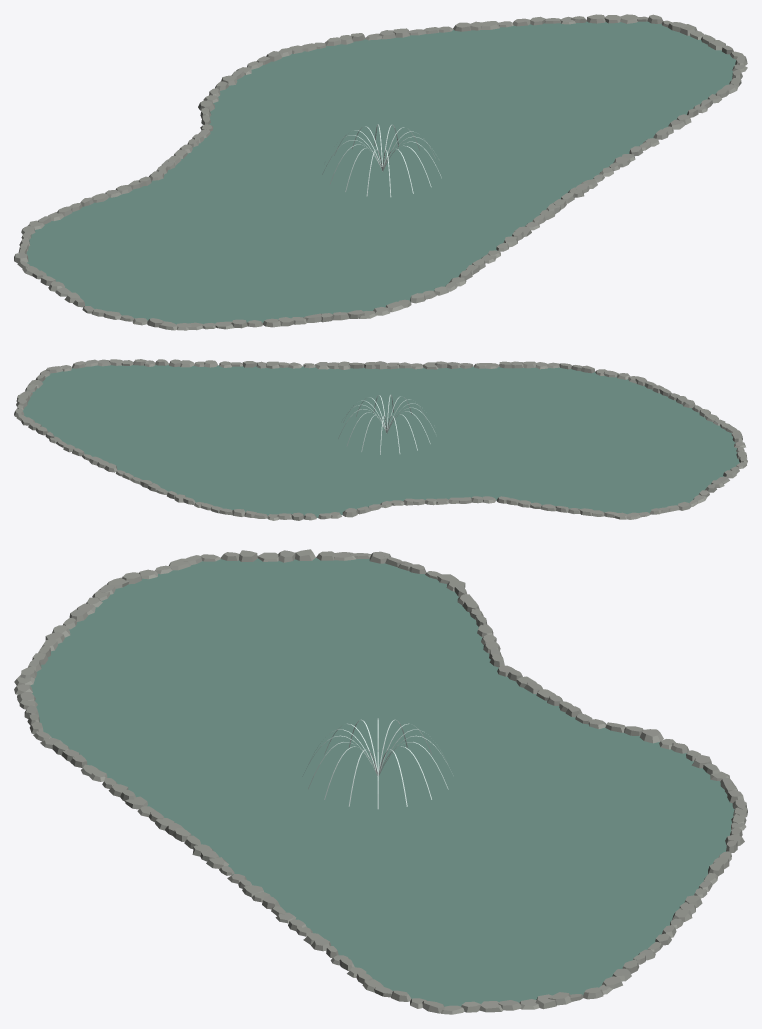
3 renders of one model, top to bottom at view 1: azimuth 30°, elevation 25°; view 2: azimuth 150°, elevation 25°; view 3: azimuth 270°, elevation 25°, orthographic. The views are drawn at different scales.
Parts seen in each view (by area): view 1: c8-water, c8-shore-stones, c8-fountain-spray; view 2: c8-water, c8-shore-stones, c8-fountain-spray; view 3: c8-water, c8-shore-stones, c8-fountain-spray.
Boxes of the visible parts, bbox=[...] form: c8-water: bbox=[26, 21, 736, 324]; c8-shore-stones: bbox=[14, 14, 747, 330]; c8-fountain-spray: bbox=[322, 124, 441, 197]; c8-water: bbox=[23, 365, 739, 517]; c8-shore-stones: bbox=[14, 359, 747, 520]; c8-fountain-spray: bbox=[338, 394, 435, 454]; c8-water: bbox=[30, 558, 734, 1006]; c8-shore-stones: bbox=[14, 549, 747, 1014]; c8-fountain-spray: bbox=[302, 718, 453, 809].
Bounding box in the file's own units: 71.91 × 3.08 × 48.33.
